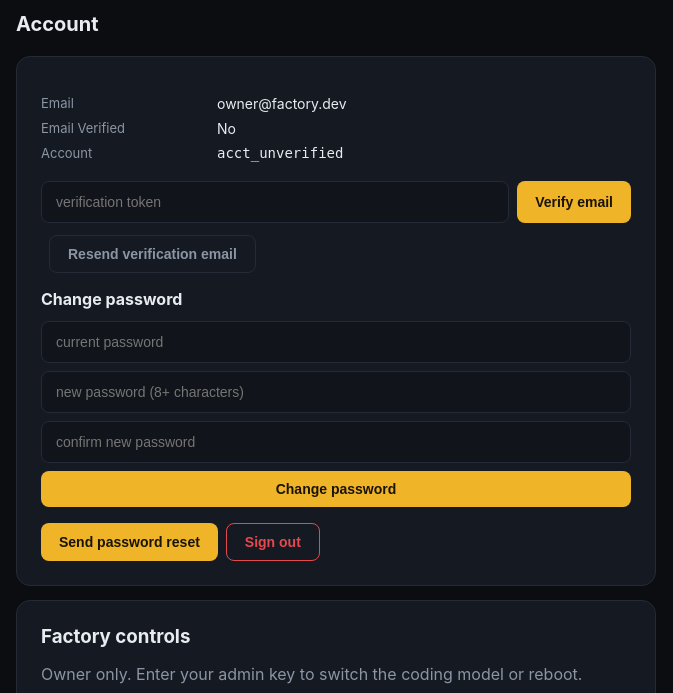
Test: Account verified settling › resend verification posts to the existing API and fills a dev token
What coordinates should you click on to do the following:
click the button "Resend verification email"
I would click on:
 (152, 254)
Its box is [49,235,256,273].
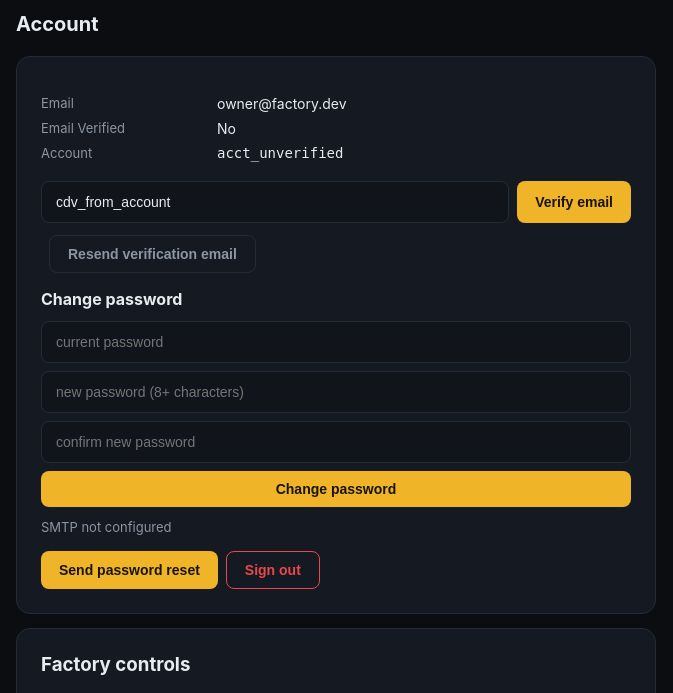
Now the field with placeholder "verification token" holds "cdv_from_account", box [41,181,509,223]
Now the text "SMTP not configured" is shown, box [41,519,172,535]
